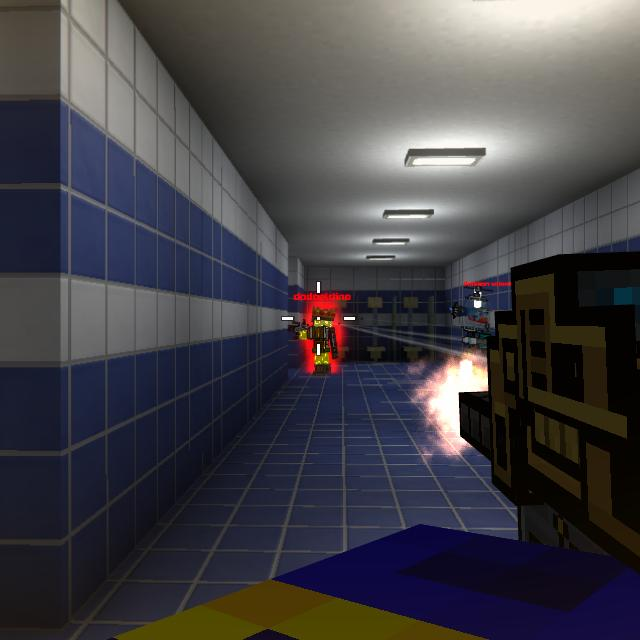Enemy: (302, 308, 335, 376)
